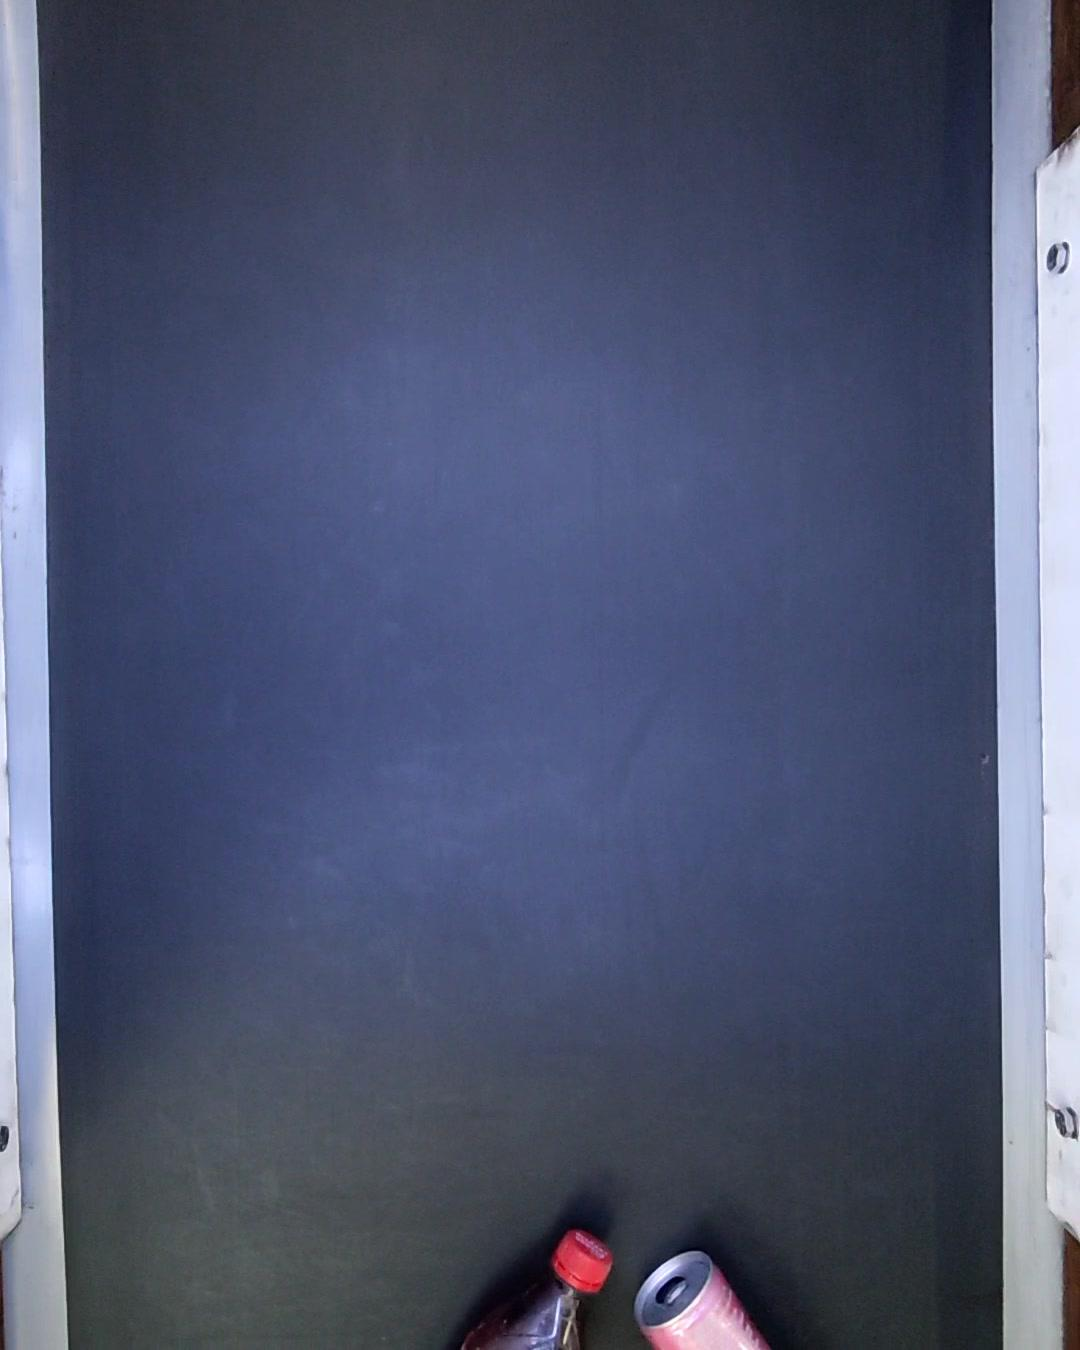Drankblikjes: (634, 1250, 768, 1350)
Drankflessen - 1-2 liter: (452, 1229, 615, 1350)
